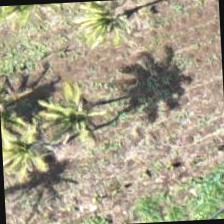Kelapa_Sawit: (28, 54, 123, 150), (0, 97, 74, 191), (56, 0, 150, 72)
